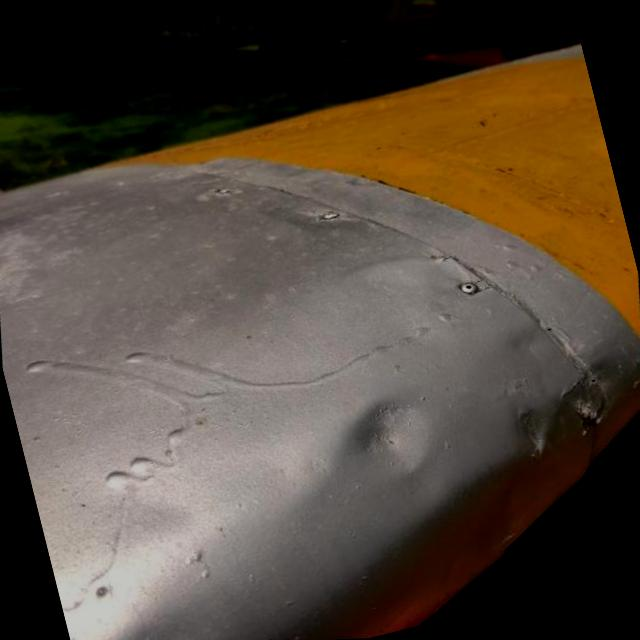dent: (288, 345, 484, 532), (500, 386, 589, 466)
